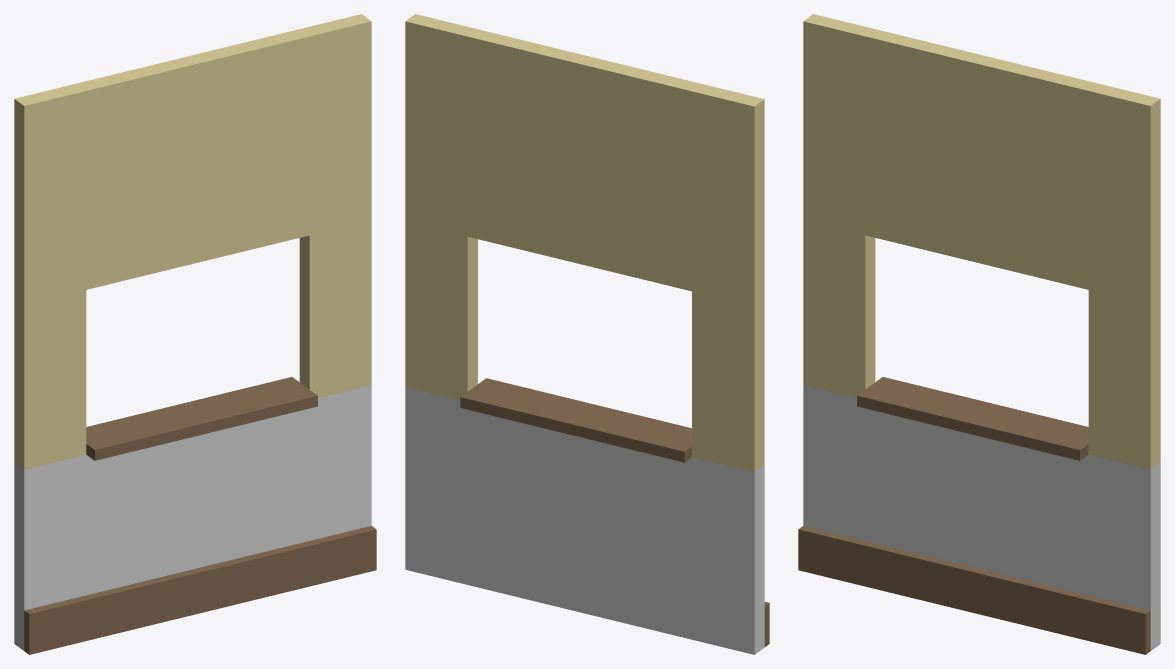
Rendered from Mesh_WallBaseboard2Colors_I3.fbx.
3 views of the same model, side by side, from view 1: azimuth 30°, elevation 25°; view 2: azimuth 150°, elevation 25°; view 3: azimuth 330°, elevation 25° (orthographic).
Parts seen in each view (by area): view 1: Mesh_WallBaseboard2Colors_I3; view 2: Mesh_WallBaseboard2Colors_I3; view 3: Mesh_WallBaseboard2Colors_I3.
Part boxes in pixels (left/top/right/bottom): Mesh_WallBaseboard2Colors_I3: left=14, top=14, right=376, bottom=654; Mesh_WallBaseboard2Colors_I3: left=405, top=14, right=769, bottom=654; Mesh_WallBaseboard2Colors_I3: left=798, top=14, right=1160, bottom=654.
Bounding box in the file's own units: 2 × 3 × 0.2574.
